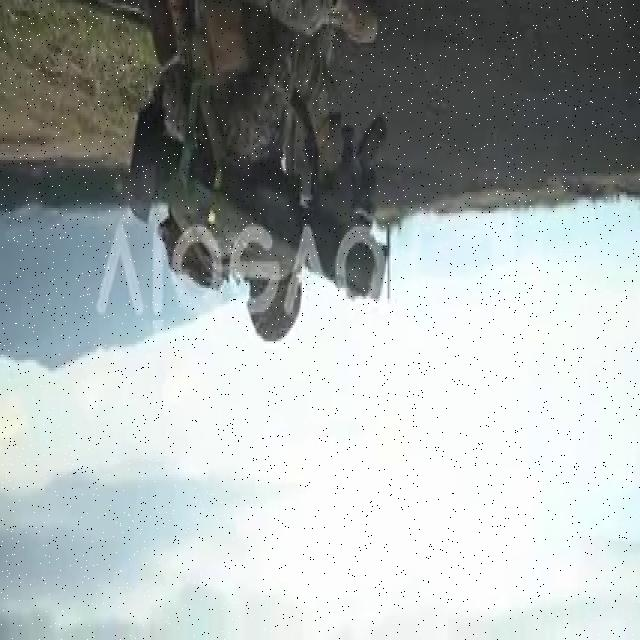bazooka: (122, 97, 394, 305)
